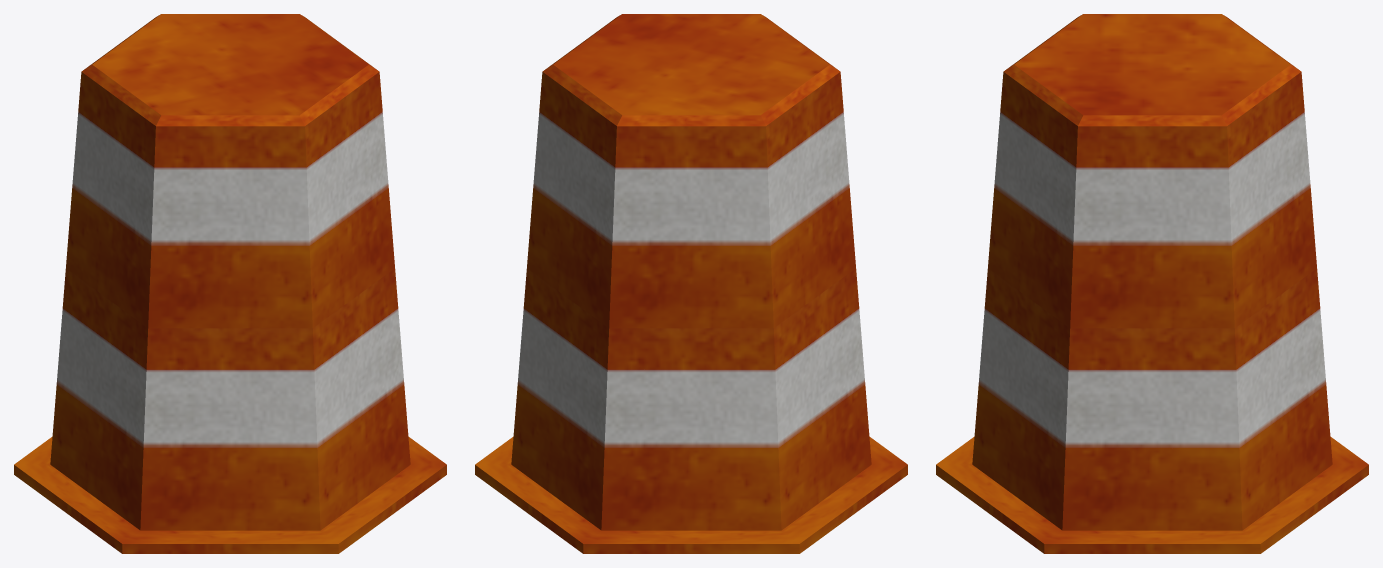
File: Urban_ConstructionCone_Model.fbx
3 renders of one model, left to right at view 1: azimuth 30°, elevation 25°; view 2: azimuth 150°, elevation 25°; view 3: azimuth 270°, elevation 25°, orthographic.
Parts seen in each view (by area): view 1: Urban_ConstructionCone_Mesh; view 2: Urban_ConstructionCone_Mesh; view 3: Urban_ConstructionCone_Mesh.
Part boxes in pixels (x1,y1,x2,y2): Urban_ConstructionCone_Mesh: (14, 14, 446, 553); Urban_ConstructionCone_Mesh: (475, 14, 907, 553); Urban_ConstructionCone_Mesh: (936, 14, 1368, 553).
Bounding box in the file's own units: 0.6302 × 0.7605 × 0.7277.
